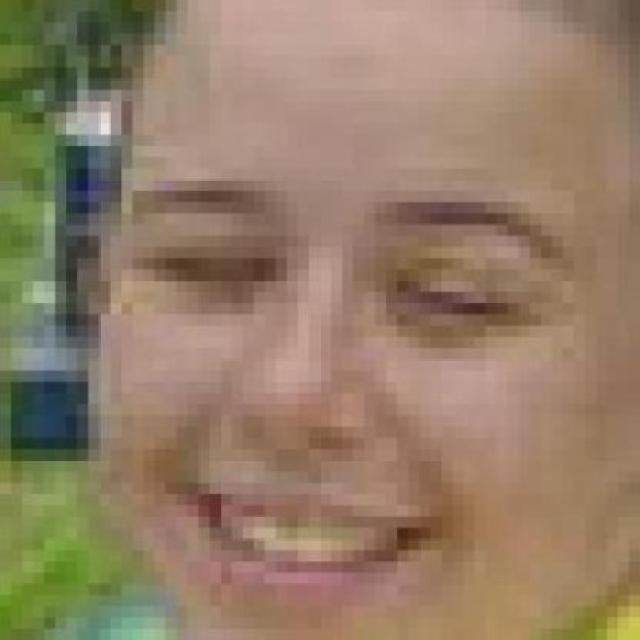drowsy: (395, 258, 514, 348), (172, 243, 271, 299)
